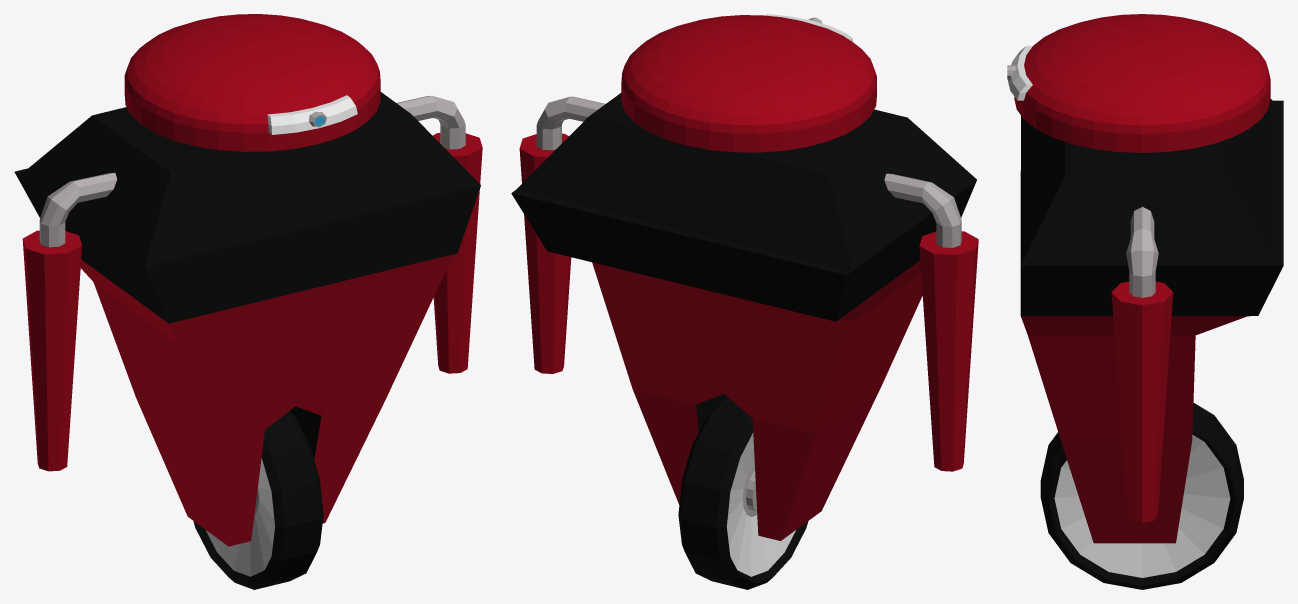
File: robot.fbx
The picture shows the model from 3 angles, left to right: view 1: azimuth 30°, elevation 25°; view 2: azimuth 150°, elevation 25°; view 3: azimuth 270°, elevation 25°; orthographic projection.
Visible parts, largest first — view 1: Torso, Wheel; view 2: Torso, Wheel; view 3: Torso, Wheel.
Boxes of the visible parts, bbox=[...] form: Torso: bbox=[14, 14, 482, 546]; Wheel: bbox=[193, 411, 323, 589]; Torso: bbox=[511, 14, 978, 540]; Wheel: bbox=[678, 395, 808, 589]; Torso: bbox=[1007, 14, 1283, 543]; Wheel: bbox=[1040, 403, 1243, 589].
Bounding box in the file's own units: 238 × 268 × 125.
